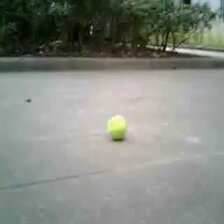tennis: (107, 115, 128, 139)
